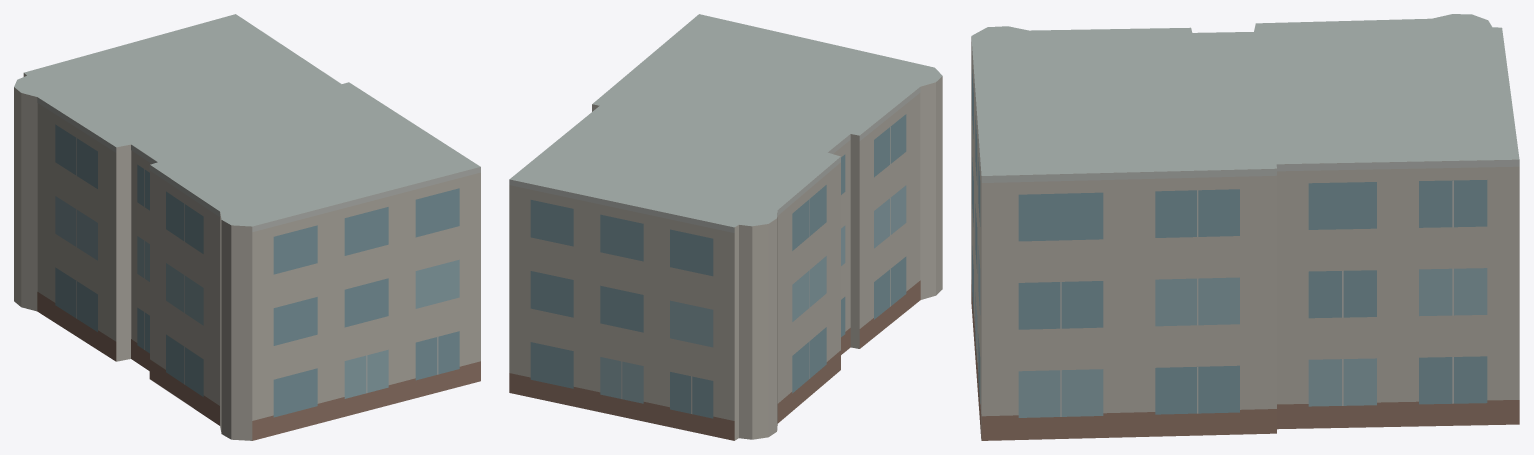
File: survey-upis-32775455.glb
3 views of the same model, side by side, from view 1: azimuth 30°, elevation 25°; view 2: azimuth 150°, elevation 25°; view 3: azimuth 270°, elevation 25° (orthographic). The views are drawn at different scales.
Parts seen in each view (by area): view 1: survey-upis-32775455.tmp; view 2: survey-upis-32775455.tmp; view 3: survey-upis-32775455.tmp.
Boxes of the visible parts, x1,y1,x2,y2 form: survey-upis-32775455.tmp: (14, 14, 480, 440); survey-upis-32775455.tmp: (509, 14, 942, 440); survey-upis-32775455.tmp: (971, 14, 1519, 440).
Size of the model in its own units: 12.02 by 9.15 by 17.18.
